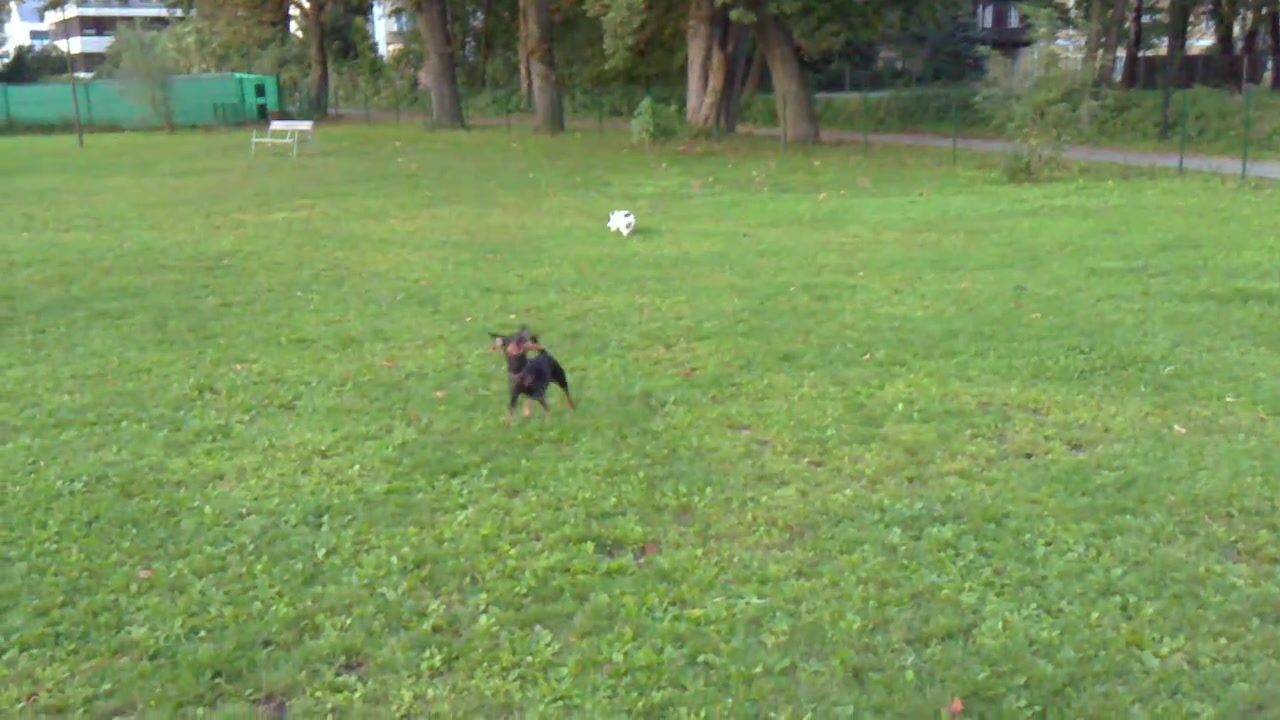dog: (488, 325, 577, 421), (605, 207, 643, 238)
